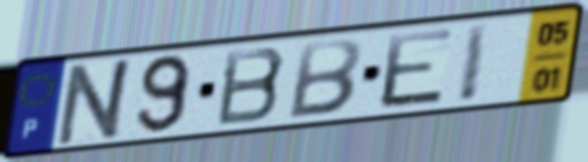9: (133, 51, 195, 139)
B: (283, 36, 365, 121), (213, 44, 289, 130)
E: (377, 25, 457, 112)
I: (455, 19, 494, 106)
N: (51, 55, 140, 149)
